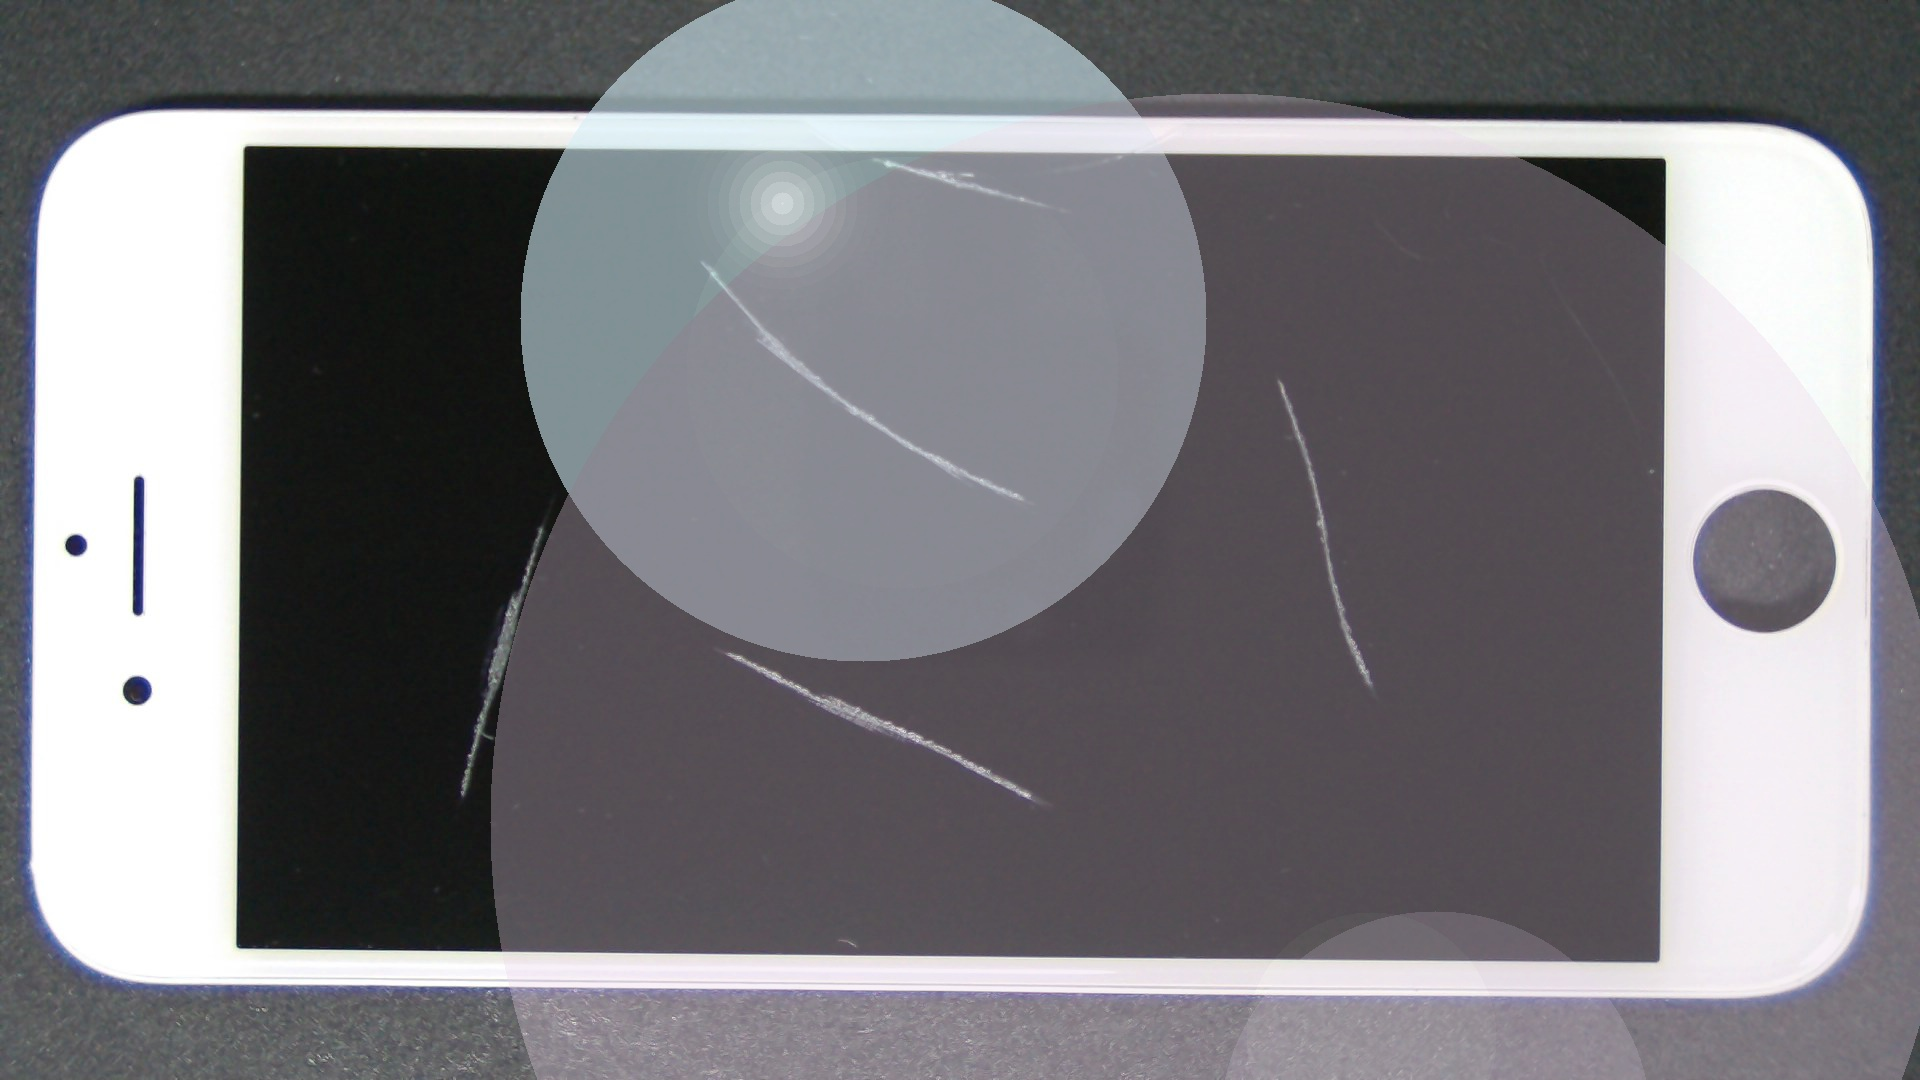oil: (638, 189, 1913, 567), (357, 322, 1073, 972), (273, 257, 818, 773), (352, 128, 1051, 388), (436, 78, 1308, 235)
